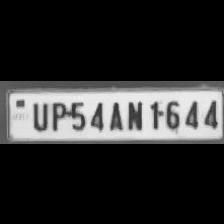1: (146, 97, 164, 130)
4: (86, 97, 106, 130), (182, 96, 200, 128), (200, 96, 218, 128)
5: (66, 97, 86, 130)
6: (162, 96, 180, 130)
A: (104, 97, 124, 130)
N: (123, 97, 145, 131)
P: (49, 98, 67, 130)
U: (27, 98, 50, 130)
